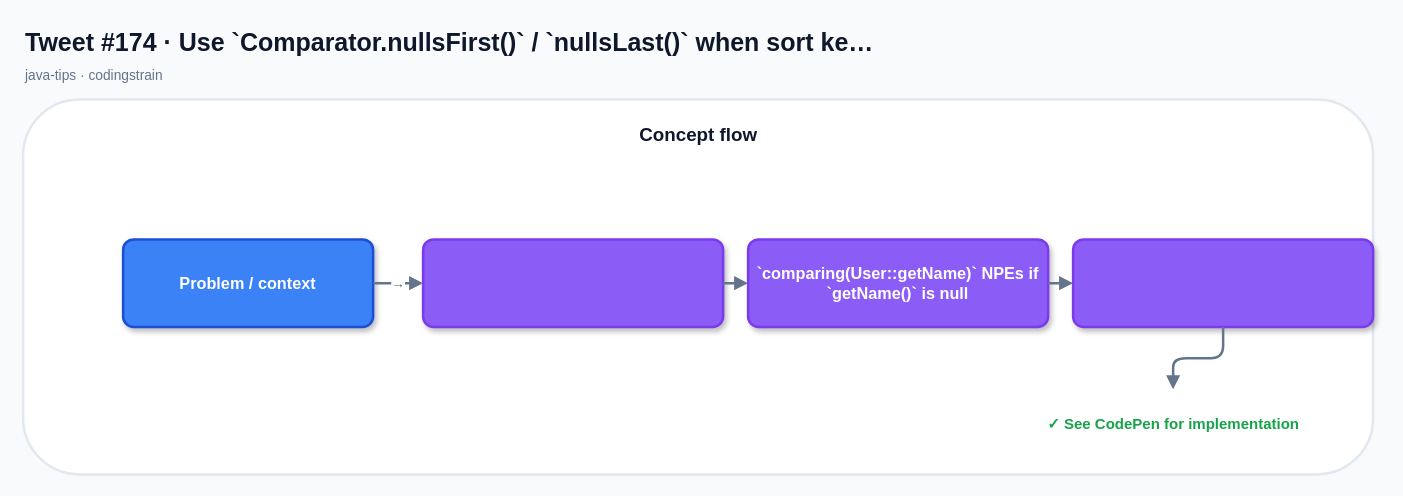
This 1403x496 diagram has some shape labels left out. Each missing label, with the centre of its shape:
Wrap with `nullsFirst` / `nullsLast` to define null order: the point at 1223,284
💡 Use `Comparator.nullsFirst()` / `nullsLast()` when sort keys can be: the point at 573,284
